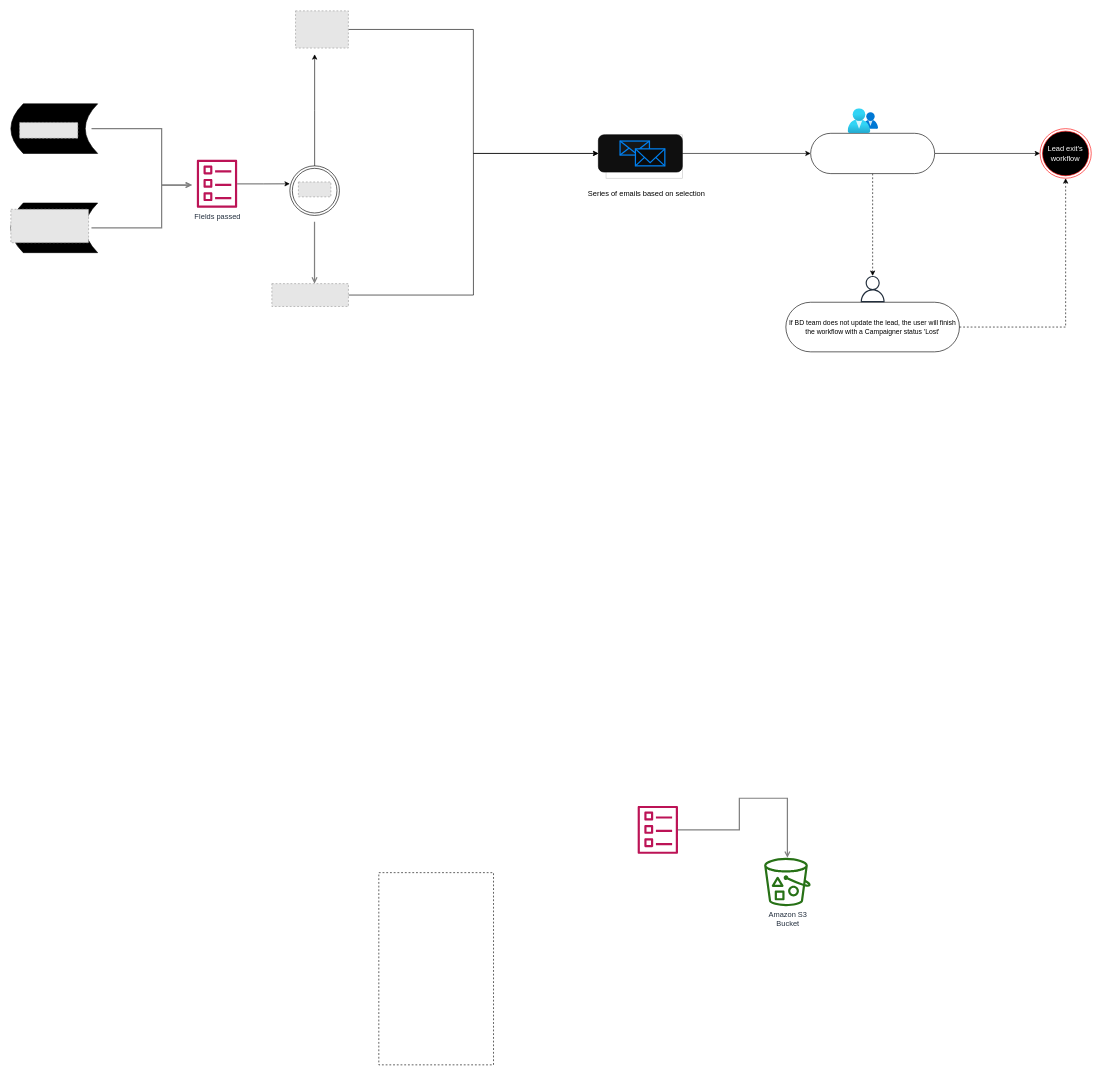
Image size: 1102x1076. Some labels were removed from this diagram. Grey dashed boxes stand in for pictures. The centre of each missing label's shape, as x and y in pixels:
BD team updates status to either interested/lost/converted: [872,153]
Template: [657,829]
